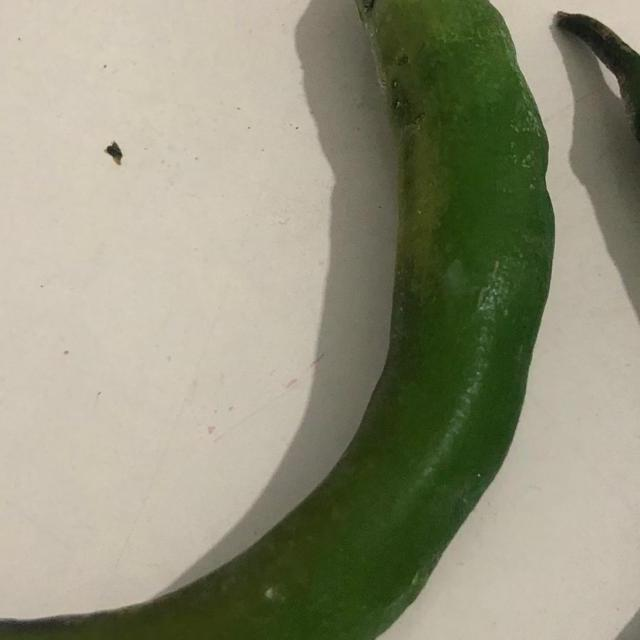chili_pepper: (0, 0, 640, 640), (312, 0, 640, 640)
